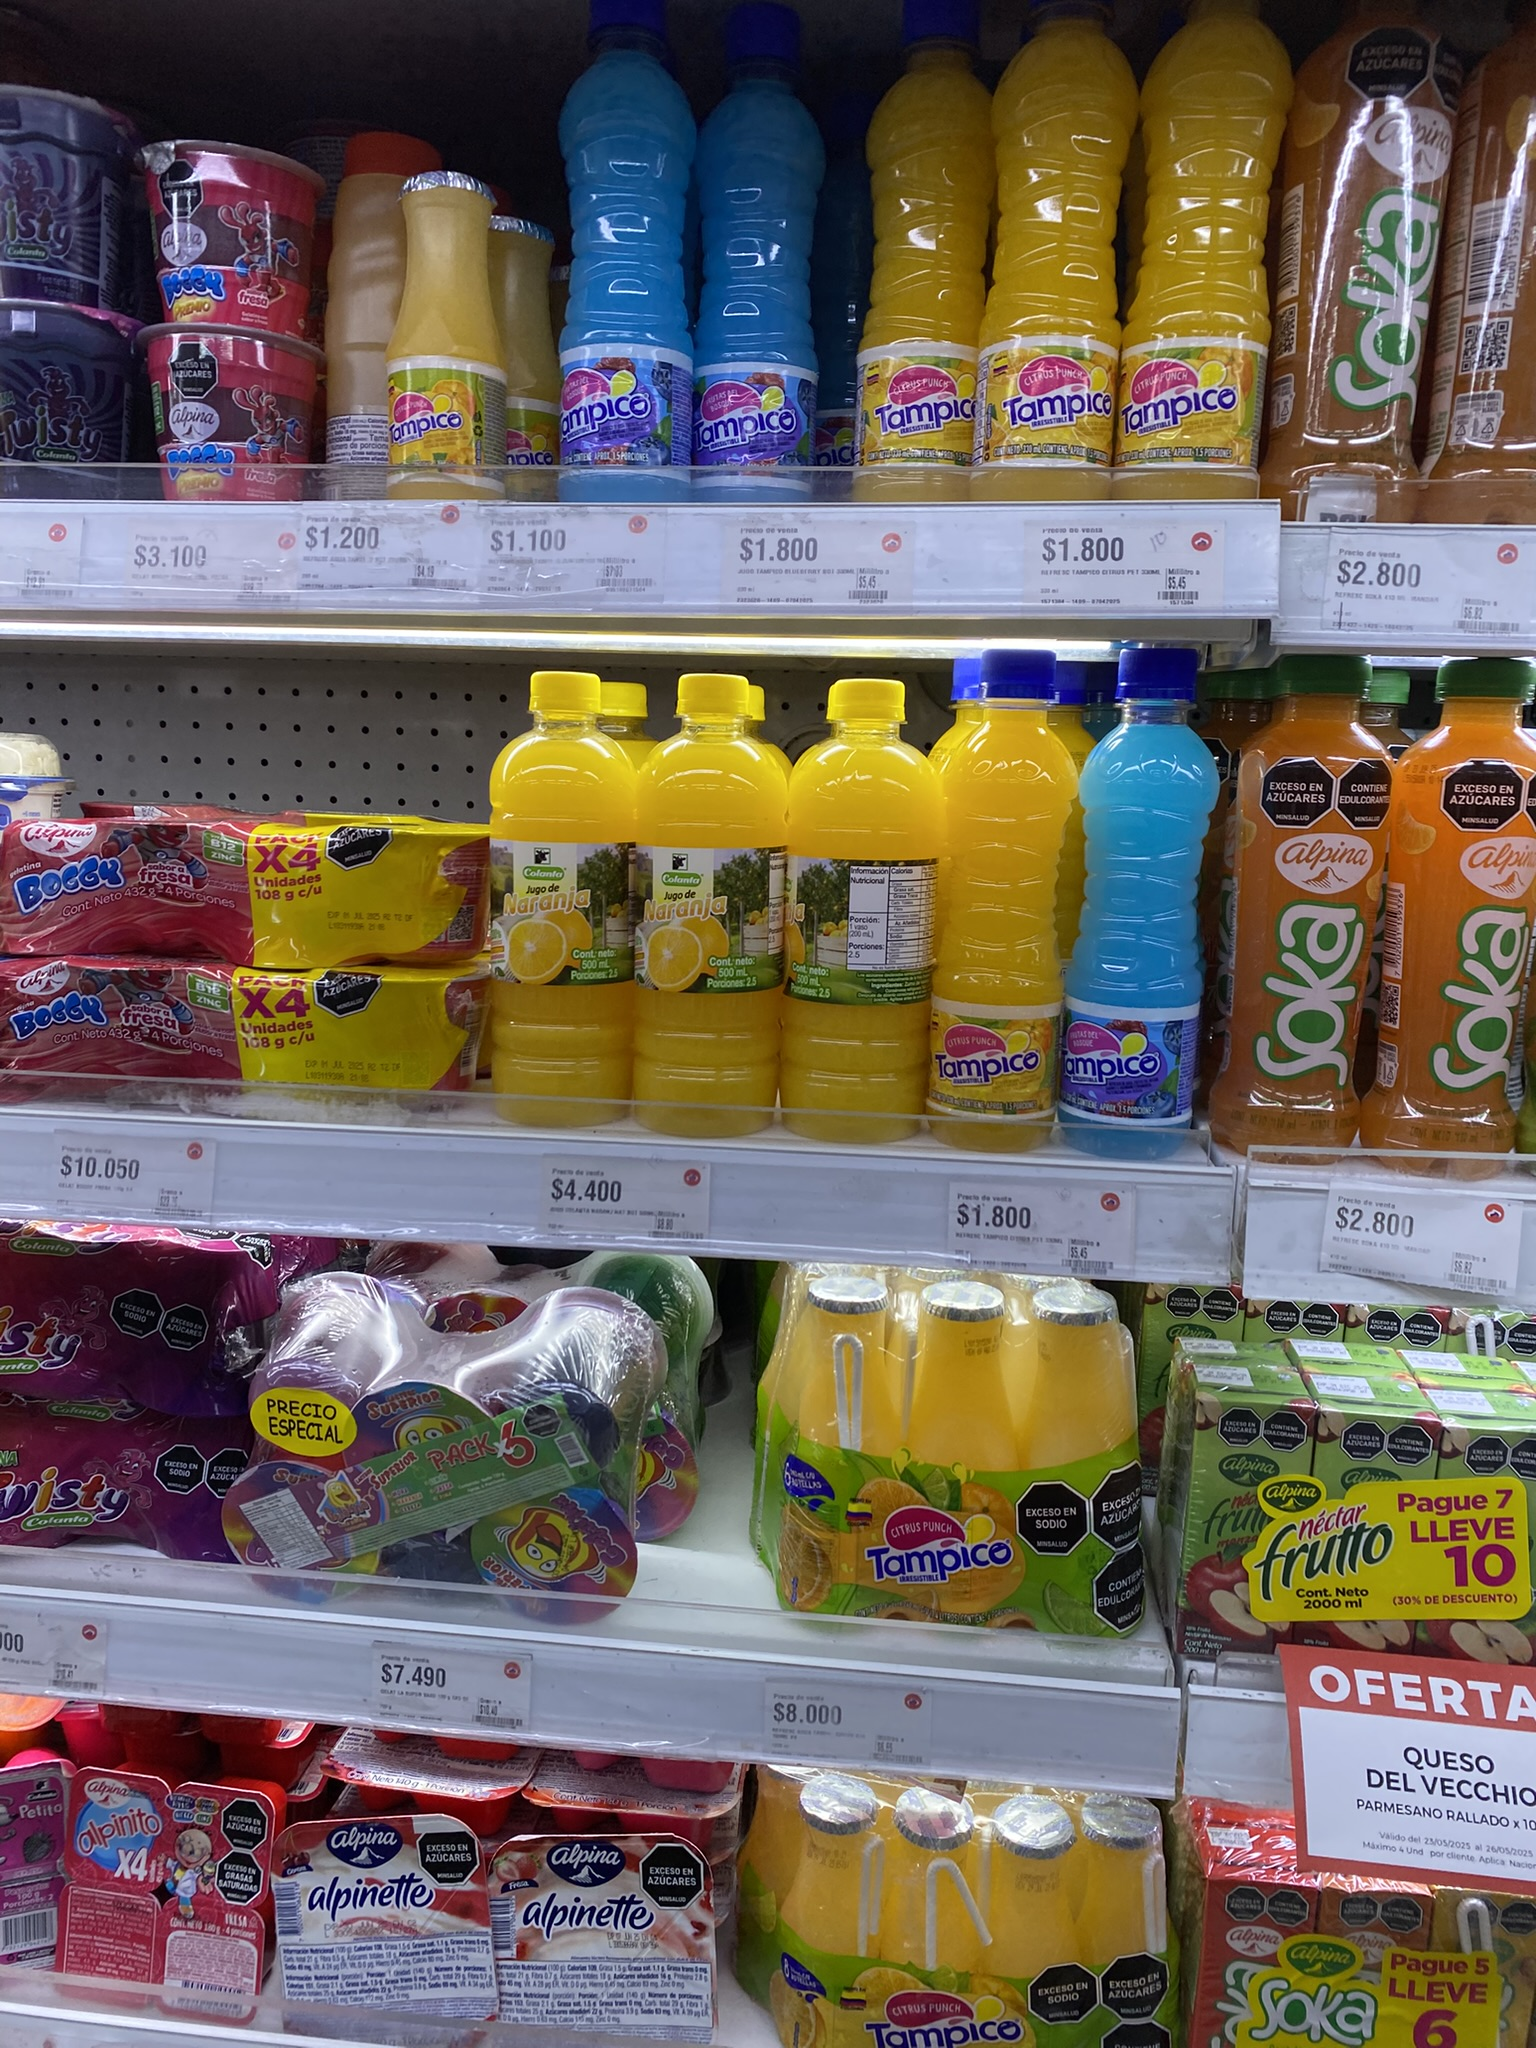Jugo de Naranja: (779, 660, 962, 1142), (486, 681, 655, 1132), (636, 660, 792, 1129)
